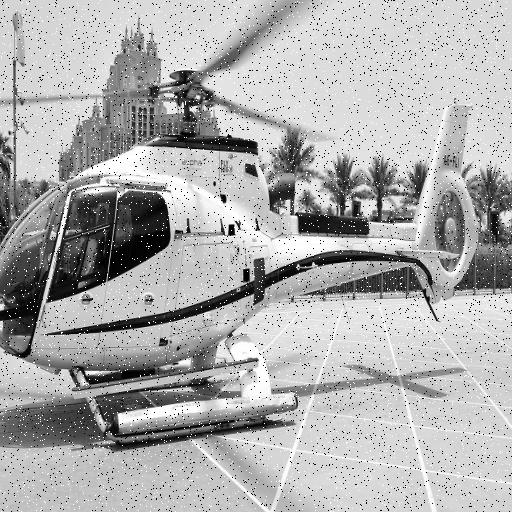helicopter: (1, 28, 484, 459)
